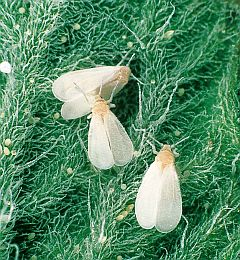whitefly: (51, 54, 141, 121), (72, 80, 134, 168), (135, 133, 182, 233)
